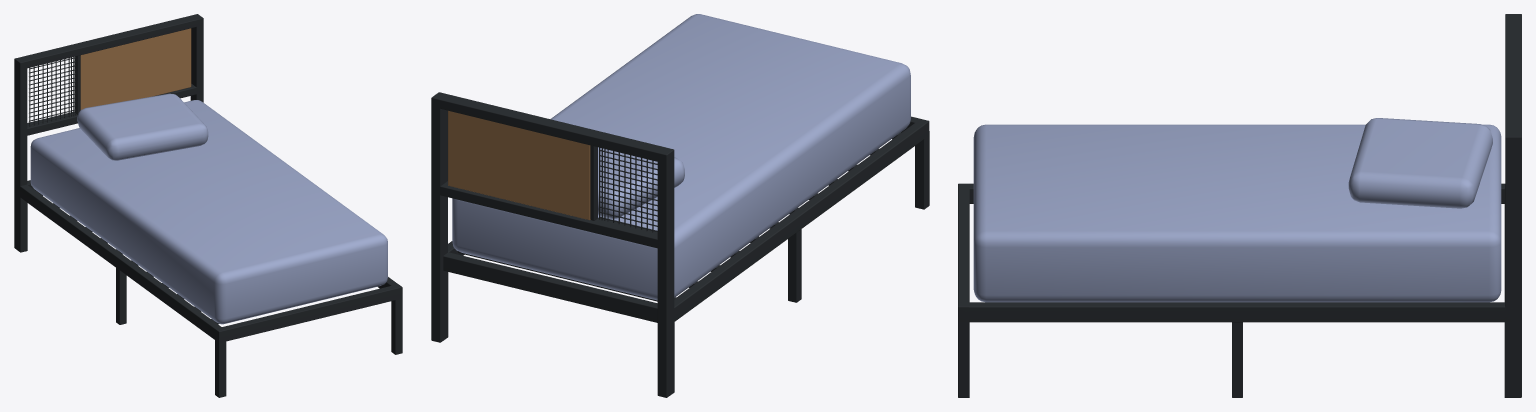
File: bed_single.glb
3 views of the same model, side by side, from view 1: azimuth 30°, elevation 25°; view 2: azimuth 150°, elevation 25°; view 3: azimuth 270°, elevation 25° (orthographic). The views are drawn at different scales.
Parts seen in each view (by area): view 1: mattress_mesh, bed_frame_mesh, pillow_mesh; view 2: mattress_mesh, bed_frame_mesh, pillow_mesh; view 3: mattress_mesh, bed_frame_mesh, pillow_mesh.
Part boxes in pixels (x1,y1,x2,y2): mattress_mesh: (30, 100, 387, 324); bed_frame_mesh: (14, 14, 402, 397); pillow_mesh: (77, 93, 208, 160); mattress_mesh: (452, 14, 910, 300); bed_frame_mesh: (431, 92, 929, 397); pillow_mesh: (598, 147, 684, 218); mattress_mesh: (973, 124, 1501, 302); bed_frame_mesh: (958, 14, 1521, 397); pillow_mesh: (1348, 118, 1492, 208).
Bounding box in the file's own units: 1.05 × 1.04 × 2.04.
